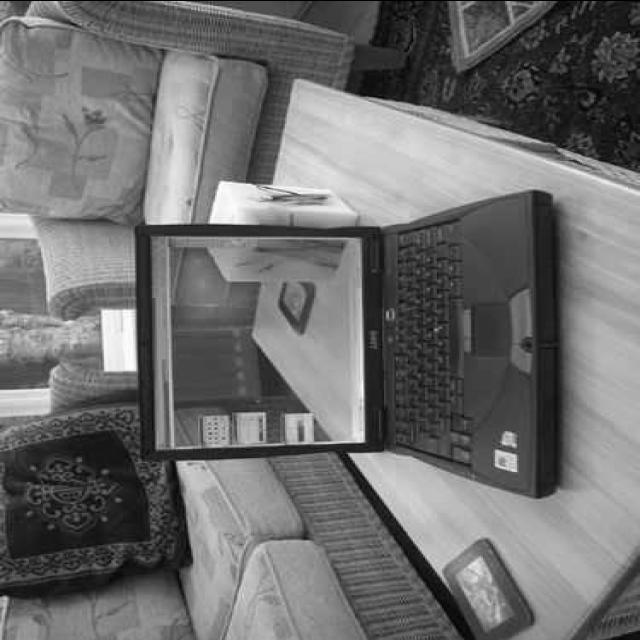laptop: (192, 182, 560, 496)
